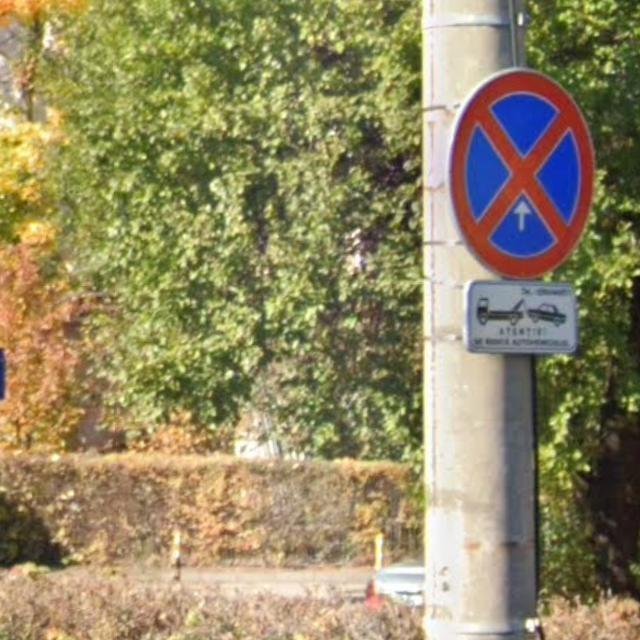forb_waiting: (445, 68, 593, 278)
